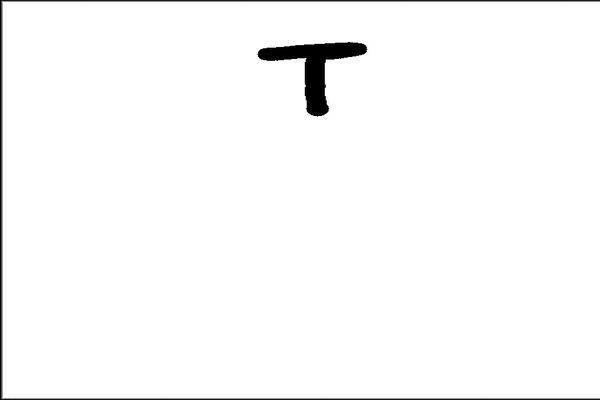T: (254, 33, 370, 123)
